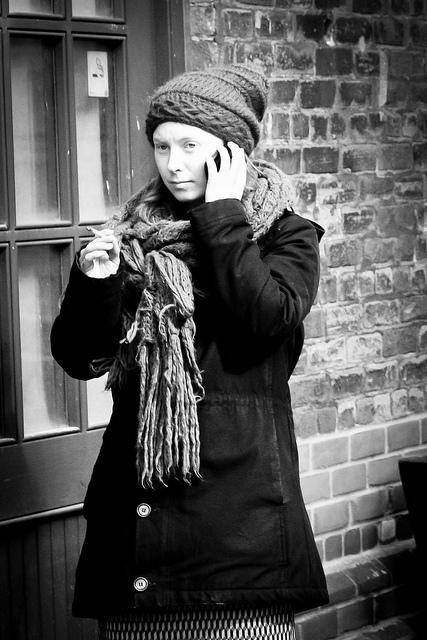person: (46, 62, 338, 640)
